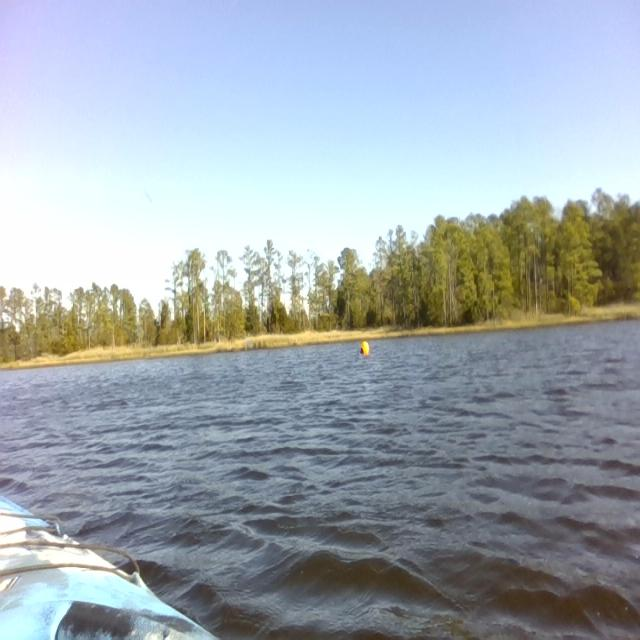Buoy: (358, 332, 374, 364)
